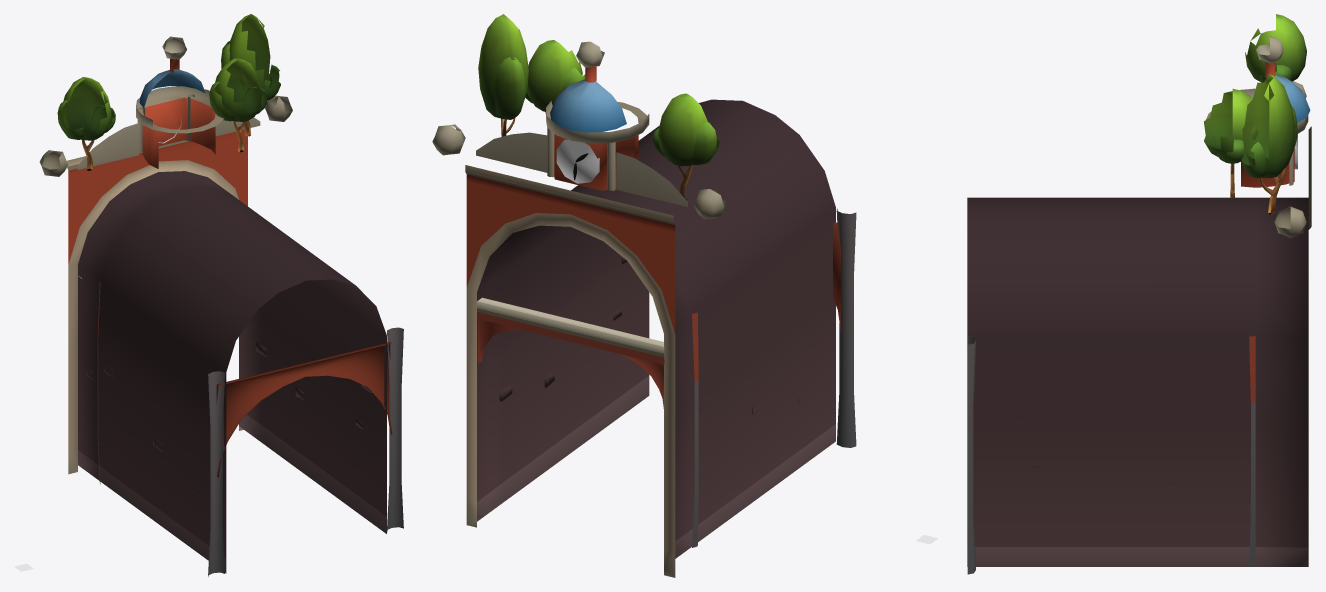
File: CityTunnel_08.fbx
3 views of the same model, side by side, from view 1: azimuth 30°, elevation 25°; view 2: azimuth 150°, elevation 25°; view 3: azimuth 270°, elevation 25° (orthographic). The views are drawn at different scales.
Parts seen in each view (by area): view 1: CityTunnel_08; view 2: CityTunnel_08; view 3: CityTunnel_08.
Part boxes in pixels (bbox=[...]): CityTunnel_08: bbox=[39, 14, 403, 576]; CityTunnel_08: bbox=[432, 14, 856, 577]; CityTunnel_08: bbox=[967, 14, 1311, 574].
Size of the model in its own units: 1358 by 1597 by 1000.
